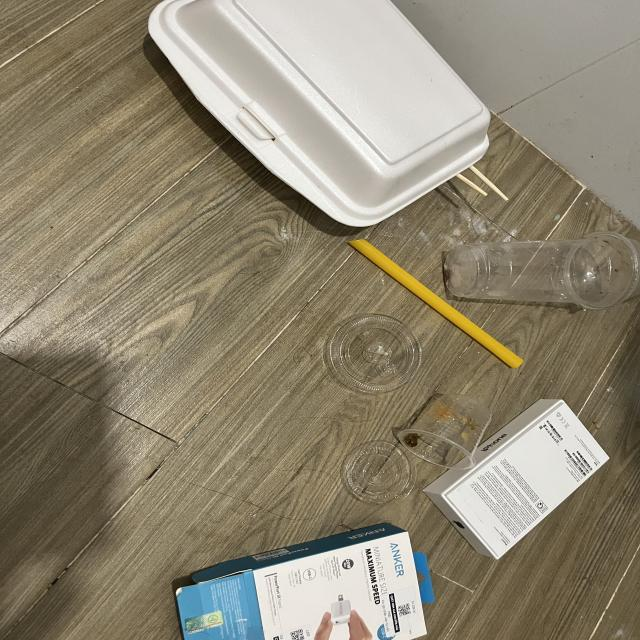cardboard box: (172, 521, 441, 640), (421, 397, 609, 561)
drinking straw: (351, 240, 525, 368)
foam box: (148, 0, 490, 227)
lid: (325, 313, 422, 392), (342, 440, 418, 503)
plastic glass: (446, 233, 640, 313), (398, 388, 491, 468)
